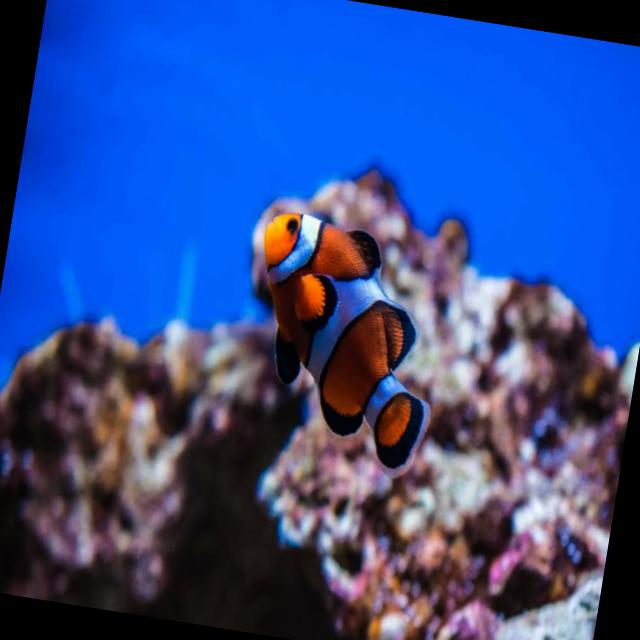ClownFish: (224, 201, 460, 483)
